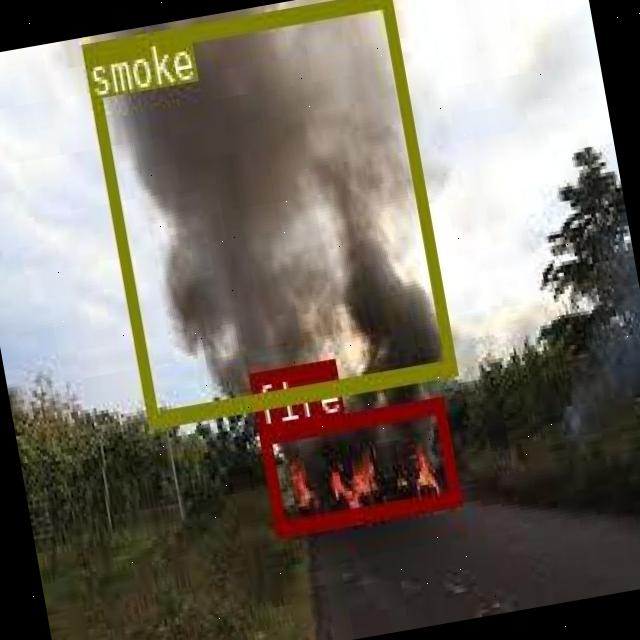fire: (255, 396, 458, 534)
smoke: (79, 0, 454, 425)
